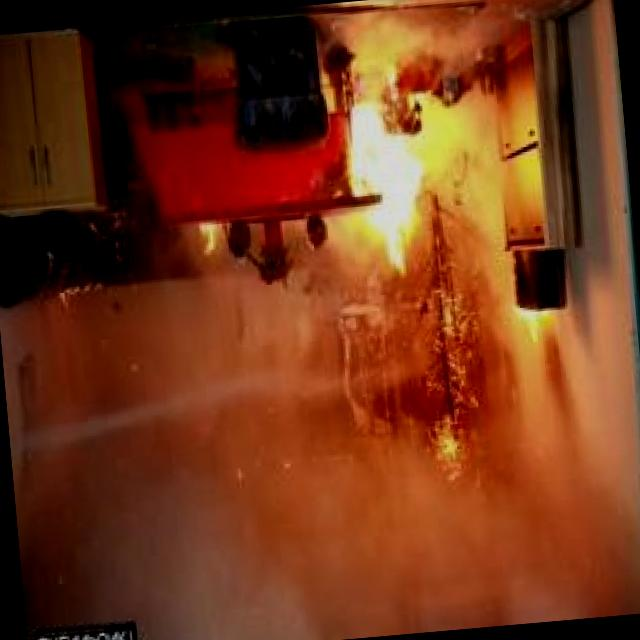fire: (305, 64, 492, 303)
